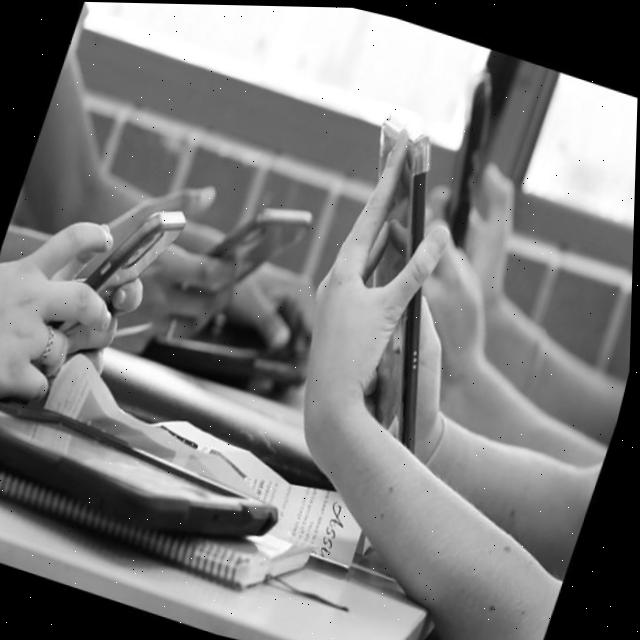phone: (283, 102, 519, 460), (0, 378, 299, 567), (55, 179, 193, 360), (178, 174, 319, 322), (420, 60, 524, 254)
